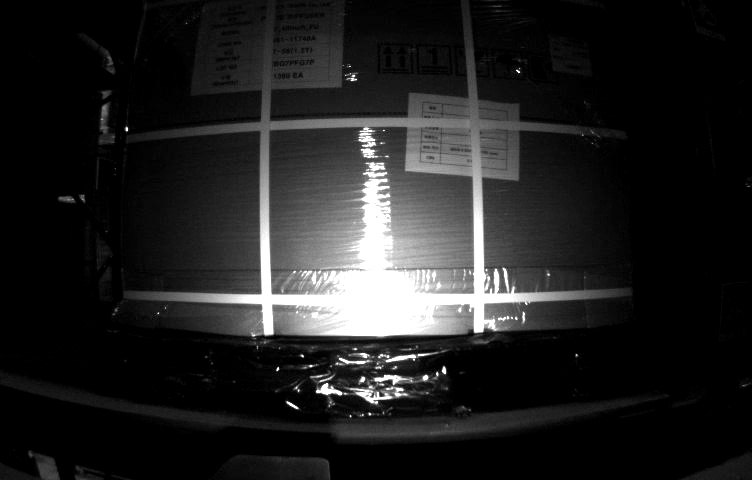True Barcode: (551, 33, 593, 74)
